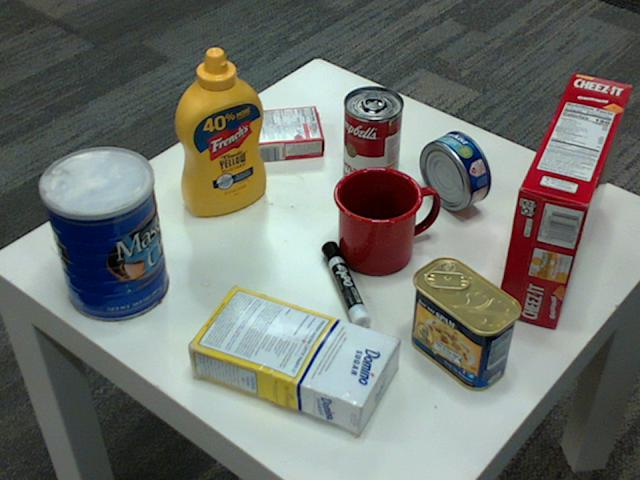cracker_box: (494, 72, 630, 326)
gelatin_box: (247, 103, 325, 159)
large_marker: (321, 243, 370, 334)
master_chef_can: (36, 147, 166, 322)
mug: (331, 164, 435, 272)
mustard_bottle: (174, 48, 266, 215)
potted_meat_can: (407, 256, 521, 389)
sugar_box: (182, 283, 397, 431)
tomato_soup_can: (342, 86, 402, 191)
tuna_fish_can: (418, 130, 489, 210)
